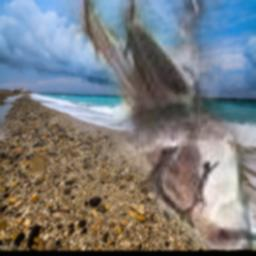Cuckoo: (53, 0, 256, 251)
